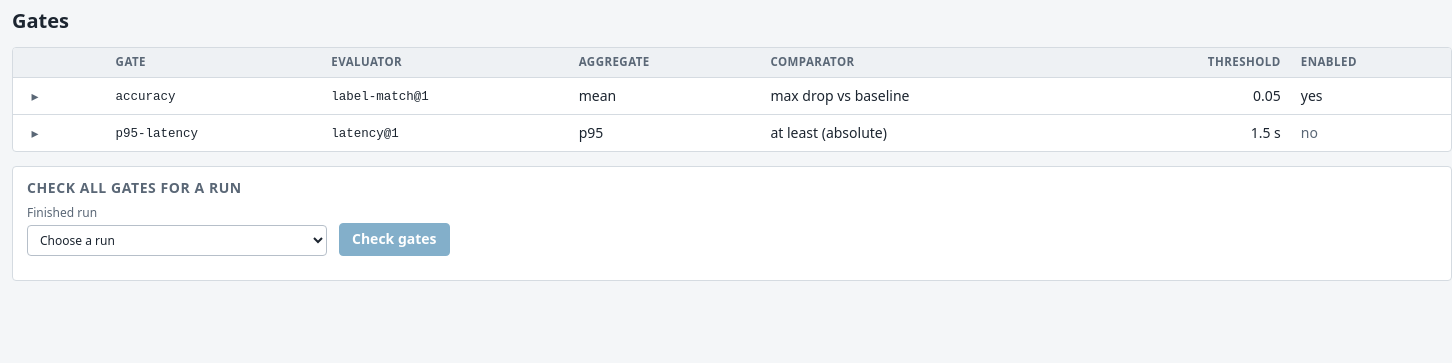
Test: GatesPage › checks all gates for a chosen finished run
Select "a4c485f4 · triage@1 · triage@2 · 5 minutes ago" in the dropdown labelled "Finished run": (177, 240) [27,225,327,256]
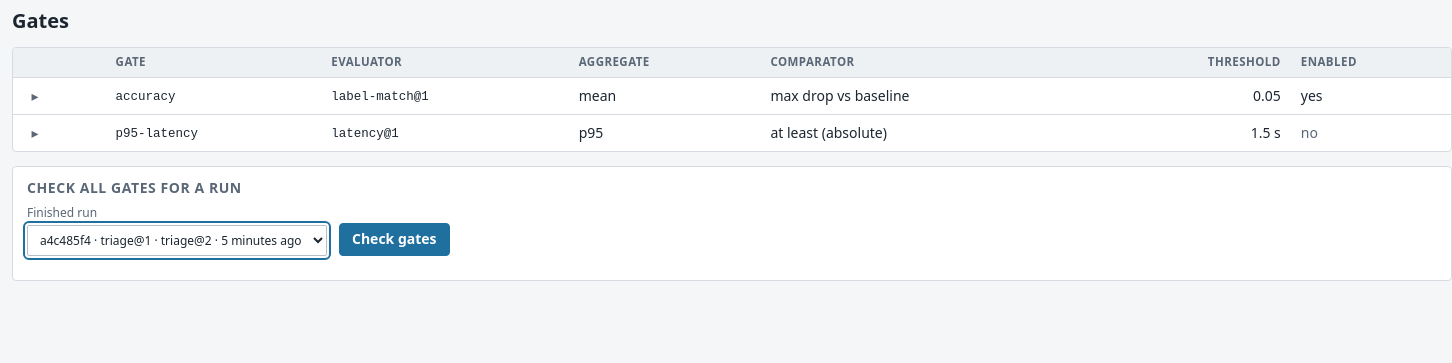
Click the button "Check gates": (394, 239) [339,223,450,256]
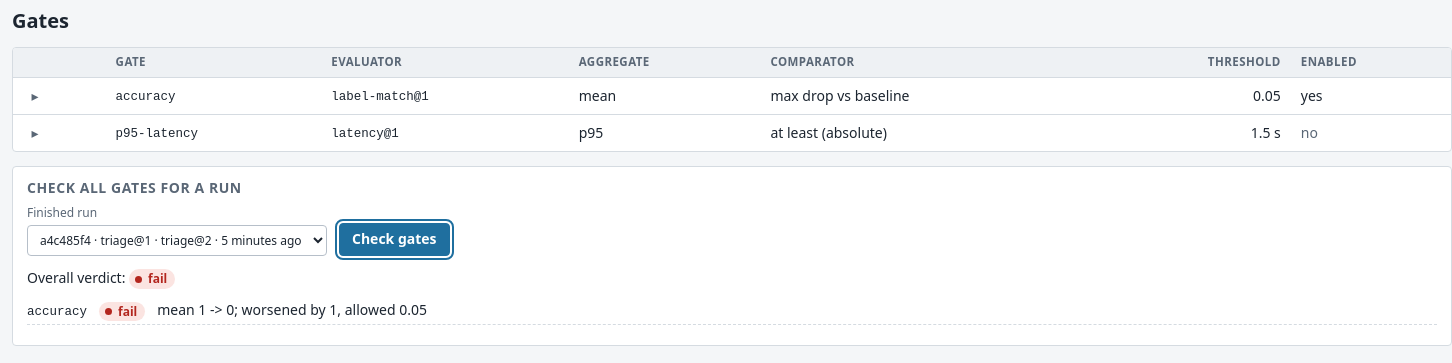
Check: the text "Overall verdict: fail" is shown, box [27,268,175,289]
Check: the text "fail" is shown, box [129,269,175,289]
